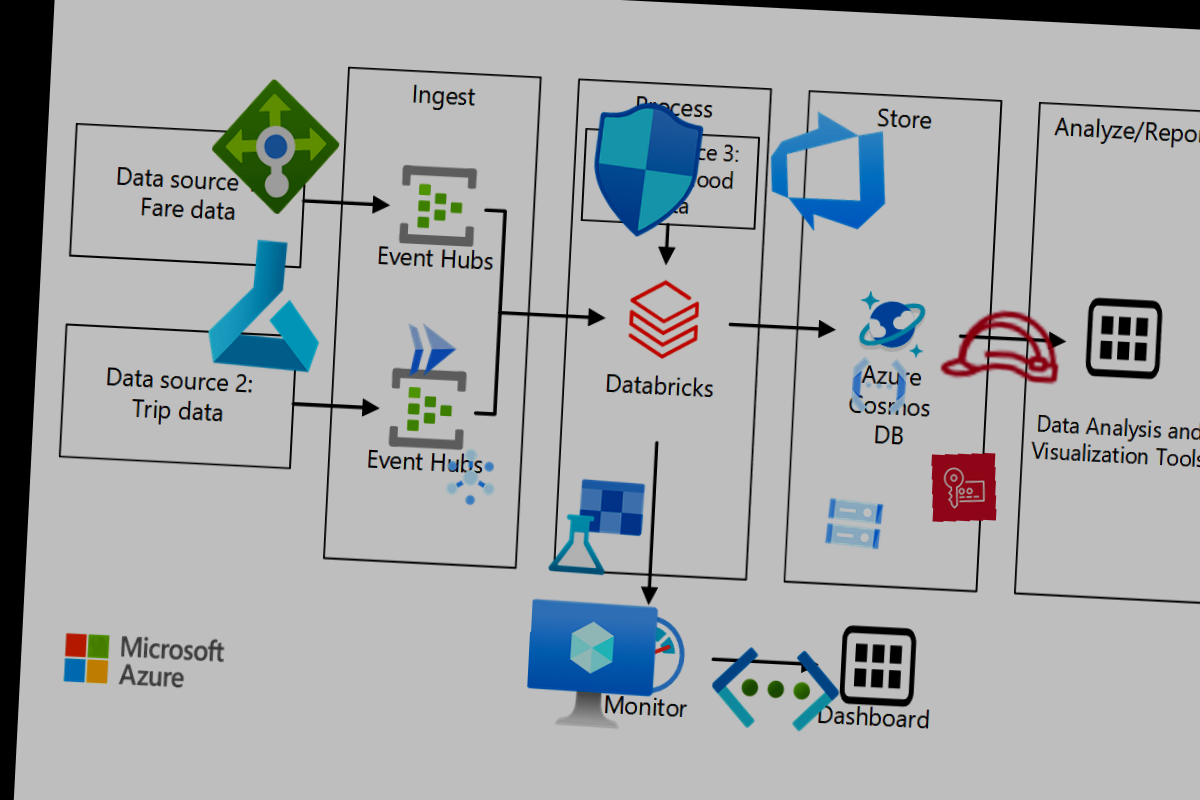aws_identity_access_management_role: (931, 272, 1072, 421)
aws_key_management_service: (927, 449, 1000, 525)
azure_devops: (754, 94, 900, 247)
azure_load_balancers: (203, 71, 347, 222)
azure_machine_learning: (196, 231, 336, 377)
azure_machine_learning_studio_workspaces: (544, 472, 648, 582)
azure_network_security_groups: (572, 93, 718, 246)
azure_virtual_machine: (522, 596, 660, 740)
azure_virtual_networks: (707, 618, 843, 760)
gcp_cloud_functions: (844, 349, 913, 421)
gcp_cloud_run: (395, 311, 468, 387)
gcp_cloud_storage: (817, 485, 890, 562)
gcp_pubsub: (435, 439, 506, 514)
